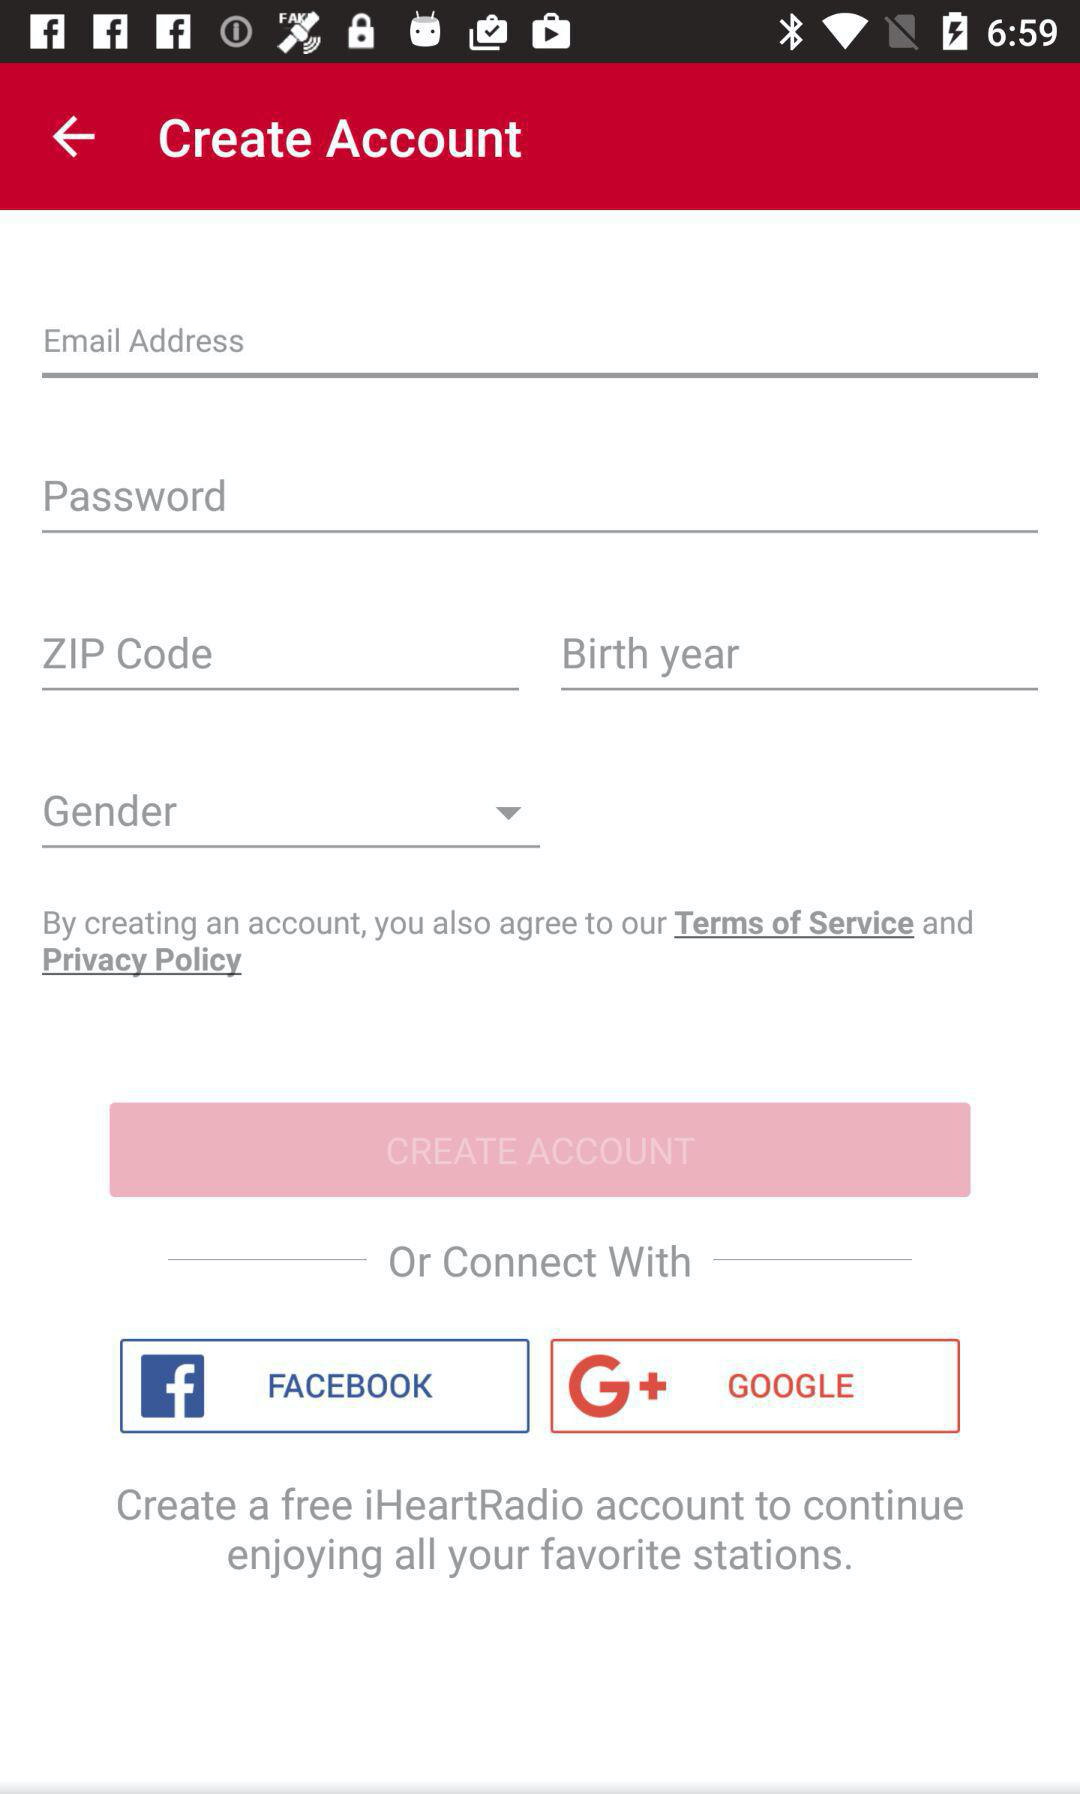EditText: (42, 479, 1038, 536), (42, 328, 1039, 381), (561, 636, 1039, 692), (42, 636, 520, 692)
Icon: (53, 117, 97, 160), (496, 806, 523, 821)
Text: (118, 1486, 965, 1580), (42, 909, 972, 979), (42, 794, 541, 850), (160, 118, 521, 160), (389, 1244, 691, 1280), (562, 636, 740, 679), (44, 636, 211, 670), (46, 481, 225, 513), (46, 329, 245, 354), (45, 794, 178, 828)
TextButton: (110, 1102, 971, 1198), (550, 1338, 961, 1434), (120, 1338, 530, 1434)
Toolbar: (1, 63, 1080, 211)
UpperTaskBar: (1, 1, 1080, 64)
